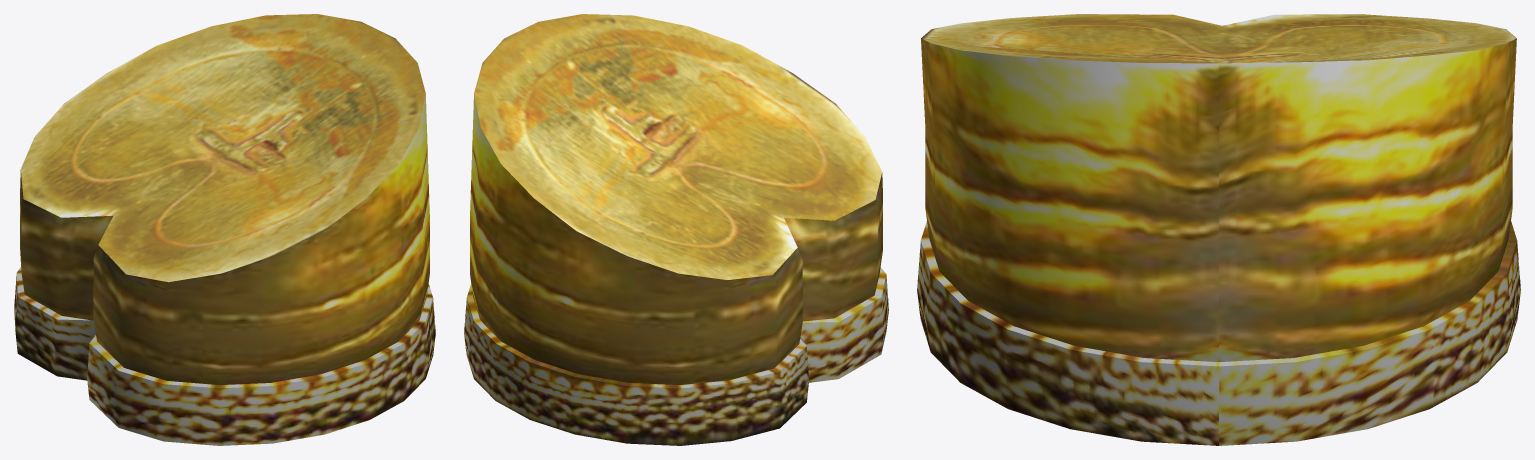
Rendered from 汉代马蹄金.FBX.
3 renders of one model, left to right at view 1: azimuth 30°, elevation 25°; view 2: azimuth 150°, elevation 25°; view 3: azimuth 270°, elevation 25°, orthographic. The views are drawn at different scales.
Parts seen in each view (by area): view 1: Cylinder001; view 2: Cylinder001; view 3: Cylinder001.
Part boxes in pixels (x1,y1,x2,y2): Cylinder001: (14,14,435,445); Cylinder001: (464,14,888,445); Cylinder001: (917,14,1520,445).
Size of the model in its own units: 40.51 by 31.4 by 45.21.
3 materials, 3 textured.
